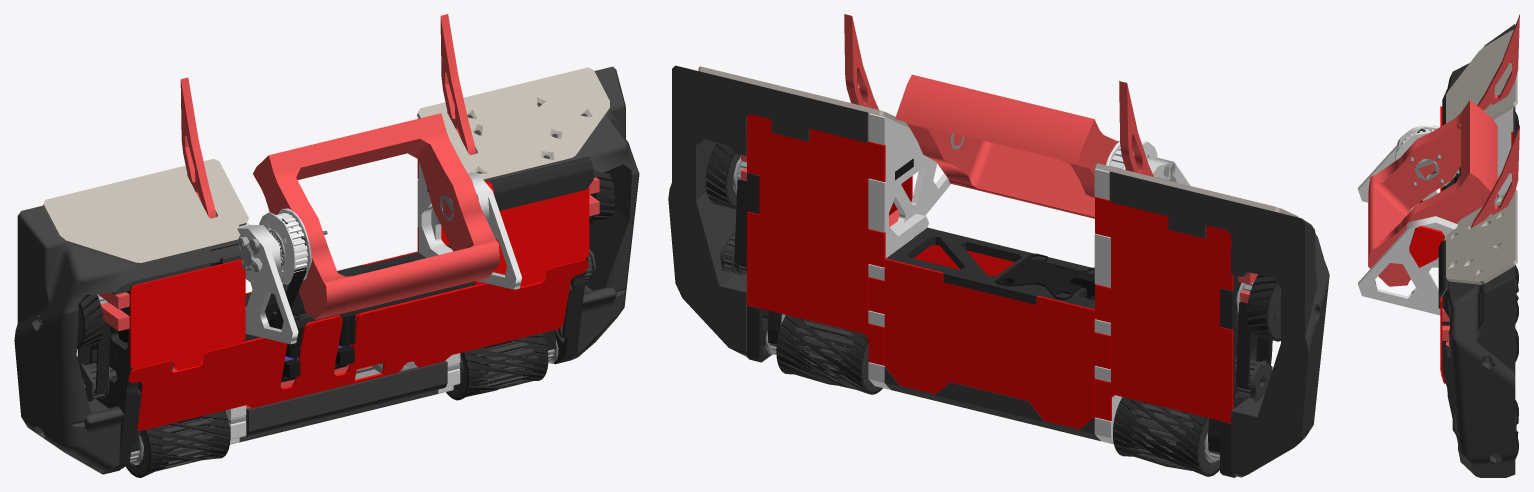
File: model-lite.glb
The picture shows the model from 3 angles, left to right: view 1: azimuth 30°, elevation 25°; view 2: azimuth 150°, elevation 25°; view 3: azimuth 270°, elevation 25°; orthographic projection. The views are drawn at different scales.
Parts seen in each view (by area): view 1: Body1:147, Body1:22, Body1:13, Body2:47, Body1:15, Body2:11, Body1:148, Body1:1, Body1:11, Body1:4, Body1; view 2: Body1:147, Body1:22, Body1:13, Body2:11, Body1:148, Body1:15, Body1:1, Body2:47, Body1, Body1:4; view 3: Body1:13, Body1:22, Body2:47, Body1:148, Body1:147, Body1:15, Body1:11, Body2:11, Body1:4.
Boxes of the visible parts, x1=… form: Body1:147: x1=89, y1=159, x2=589, y2=431; Body1:22: x1=14, y1=66, x2=639, y2=475; Body1:13: x1=98, y1=14, x2=599, y2=416; Body2:47: x1=42, y1=67, x2=609, y2=265; Body1:15: x1=90, y1=156, x2=593, y2=473; Body2:11: x1=77, y1=170, x2=614, y2=477; Body1:148: x1=225, y1=118, x2=521, y2=444; Body1:1: x1=117, y1=188, x2=428, y2=382; Body1:11: x1=259, y1=208, x2=311, y2=284; Body1:4: x1=97, y1=194, x2=558, y2=468; Body1: x1=79, y1=249, x2=596, y2=401; Body1:147: x1=747, y1=114, x2=1233, y2=429; Body1:22: x1=668, y1=65, x2=1329, y2=477; Body1:13: x1=741, y1=14, x2=1257, y2=303; Body2:11: x1=705, y1=142, x2=1280, y2=476; Body1:148: x1=868, y1=113, x2=1190, y2=444; Body1:15: x1=747, y1=173, x2=1272, y2=477; Body1:1: x1=895, y1=158, x2=1236, y2=310; Body2:47: x1=698, y1=66, x2=1298, y2=217; Body1: x1=720, y1=232, x2=1272, y2=402; Body1:4: x1=733, y1=133, x2=1253, y2=463; Body1:13: x1=1368, y1=14, x2=1519, y2=346; Body1:22: x1=1442, y1=24, x2=1516, y2=477; Body2:47: x1=1446, y1=30, x2=1517, y2=284; Body1:148: x1=1358, y1=108, x2=1513, y2=315; Body1:147: x1=1409, y1=106, x2=1513, y2=383; Body1:15: x1=1438, y1=173, x2=1460, y2=440; Body1:11: x1=1394, y1=125, x2=1456, y2=188; Body2:11: x1=1417, y1=111, x2=1518, y2=458; Body1:4: x1=1410, y1=155, x2=1443, y2=186.
Size of the model in its own units: 50.29 by 29.14 by 13.39.
